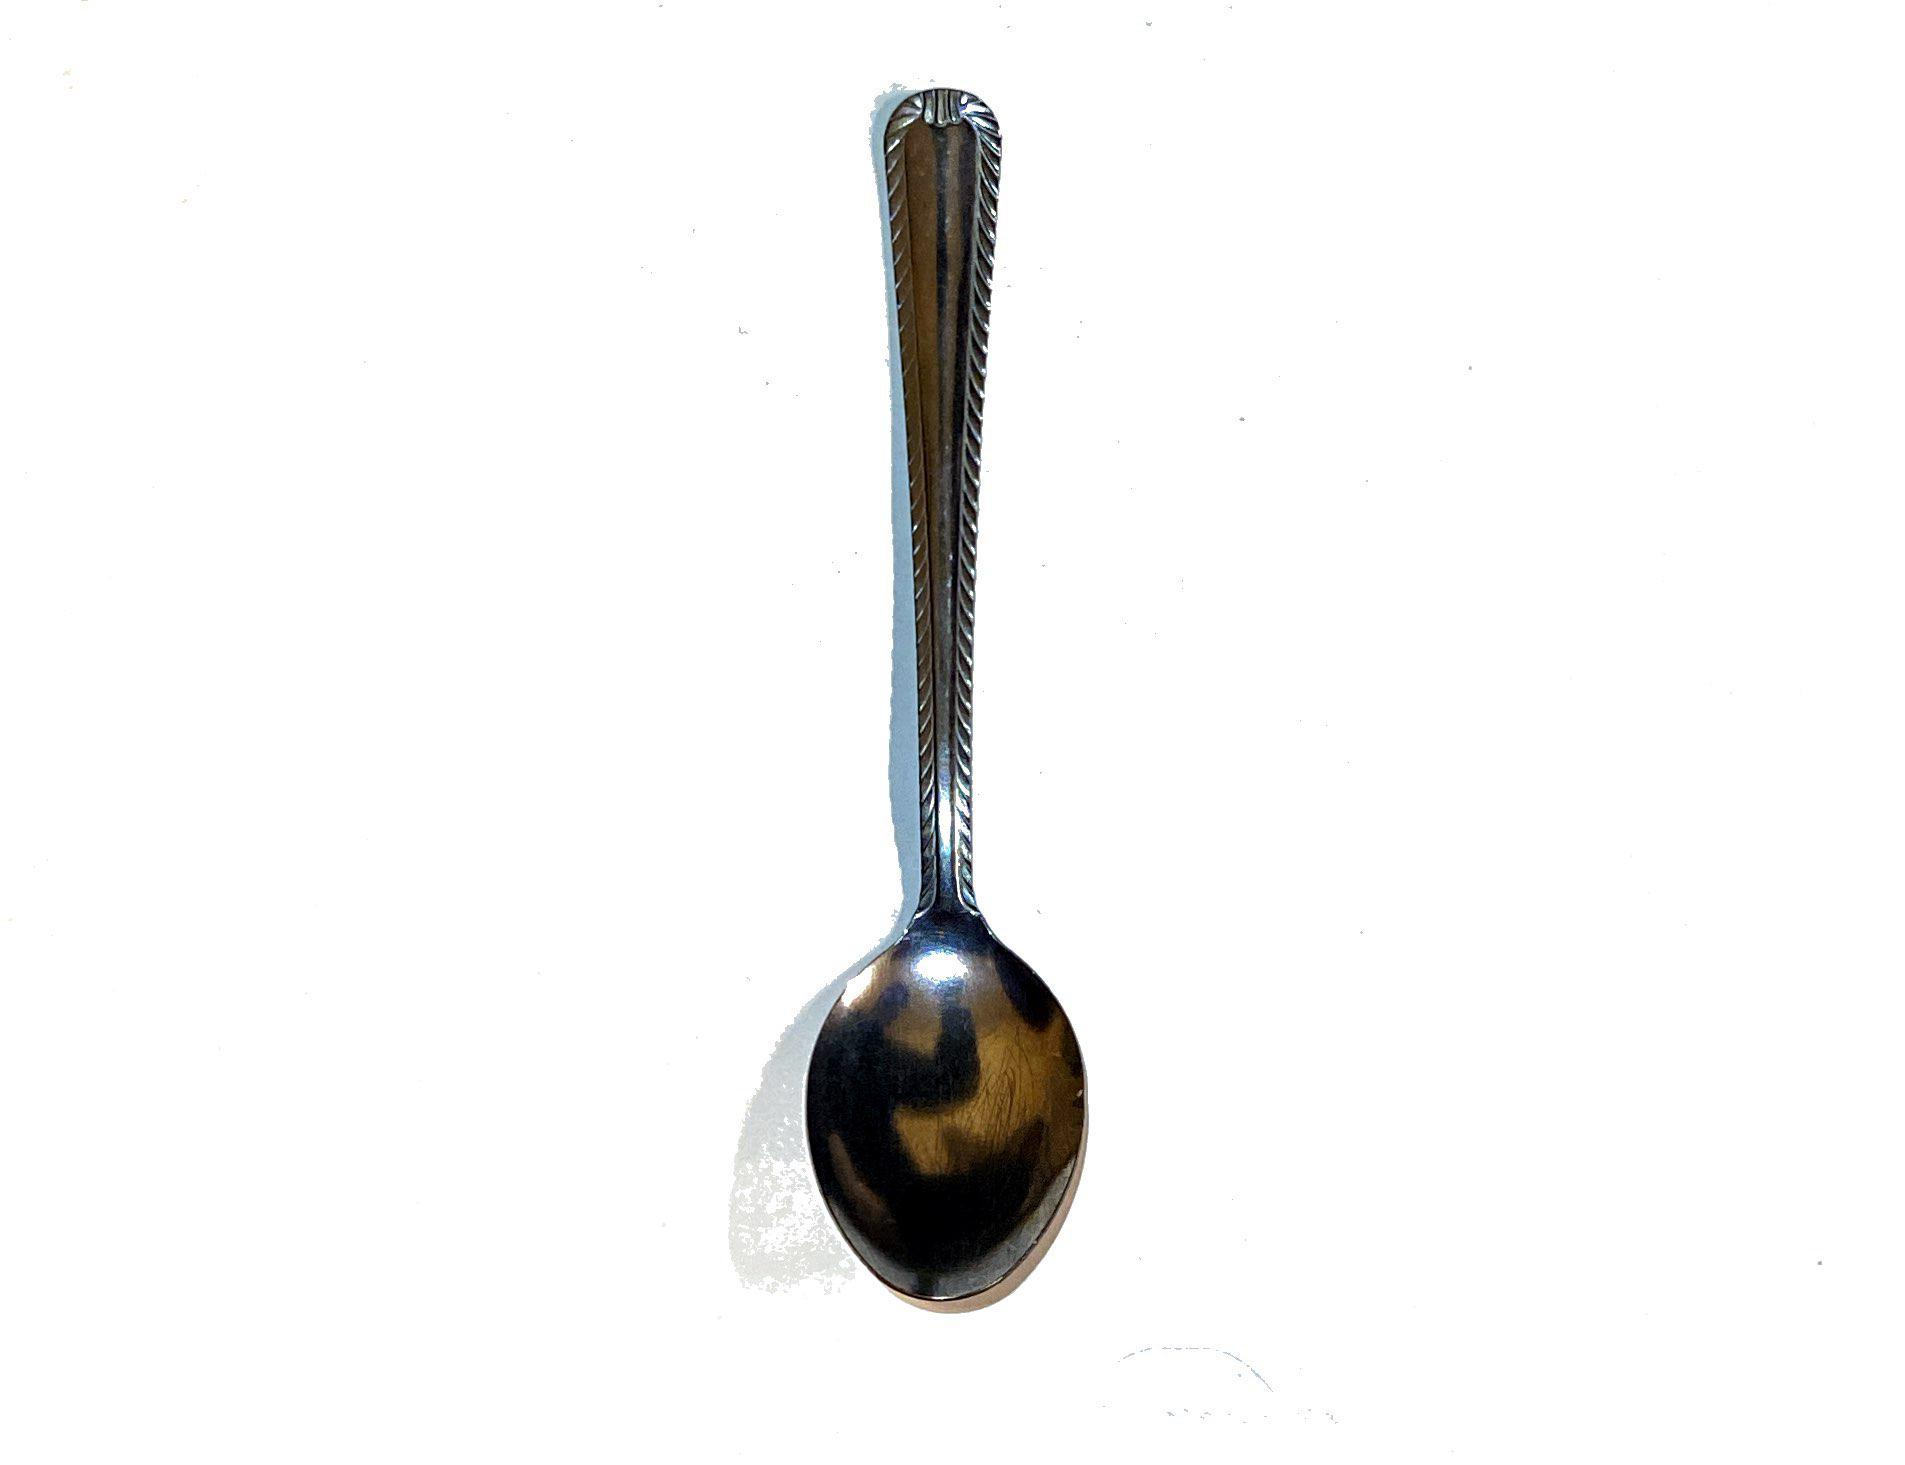Spoon: (740, 11, 1249, 1411)
